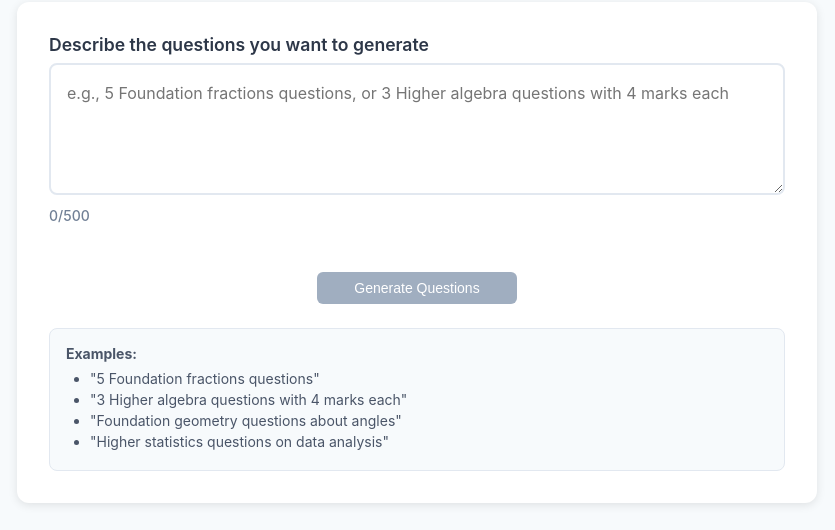
Test: QueryInput › clears input when clear button is clicked
This screenshot has width=835, height=530.
In the text box labelled "Describe the questions you want to generate": (417, 129) [49, 63, 785, 195], type "Test query"
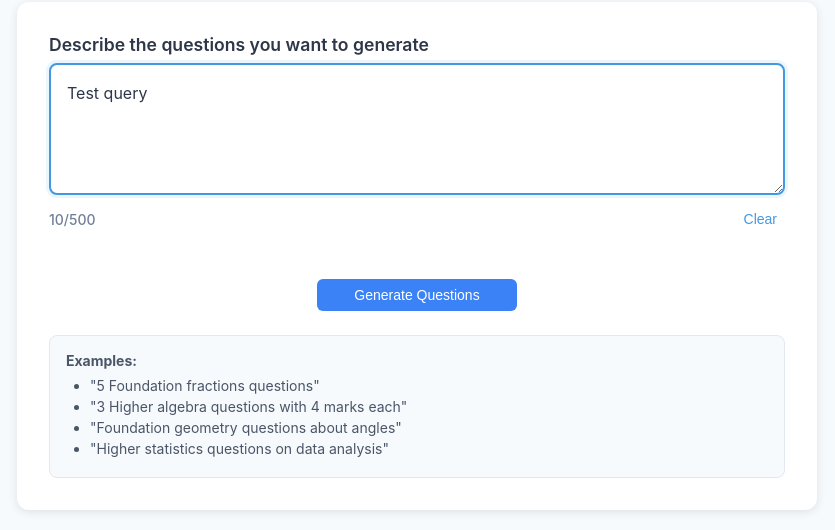
Click the button with aria-label "clear input": (760, 219) [736, 207, 785, 231]
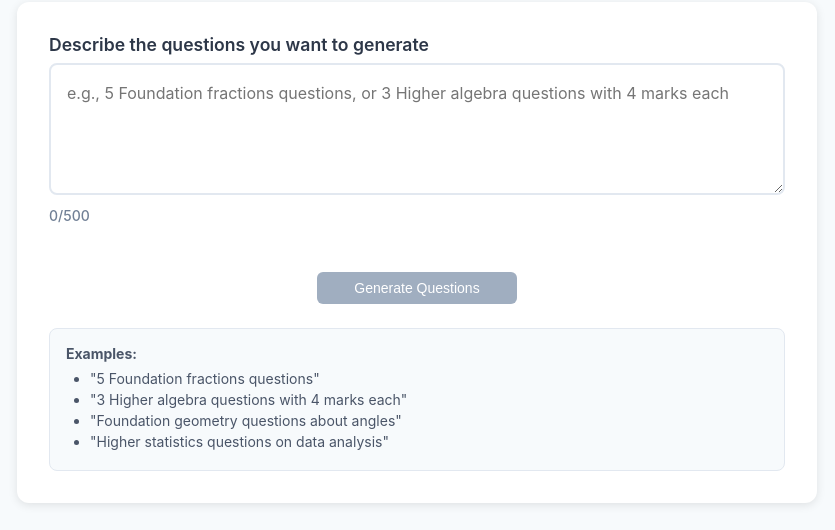
Expected: the text "0/500" is shown, [49, 207, 90, 224]
Expected: the text box labelled "Describe the questions you want to generate" is empty, [49, 63, 785, 195]
